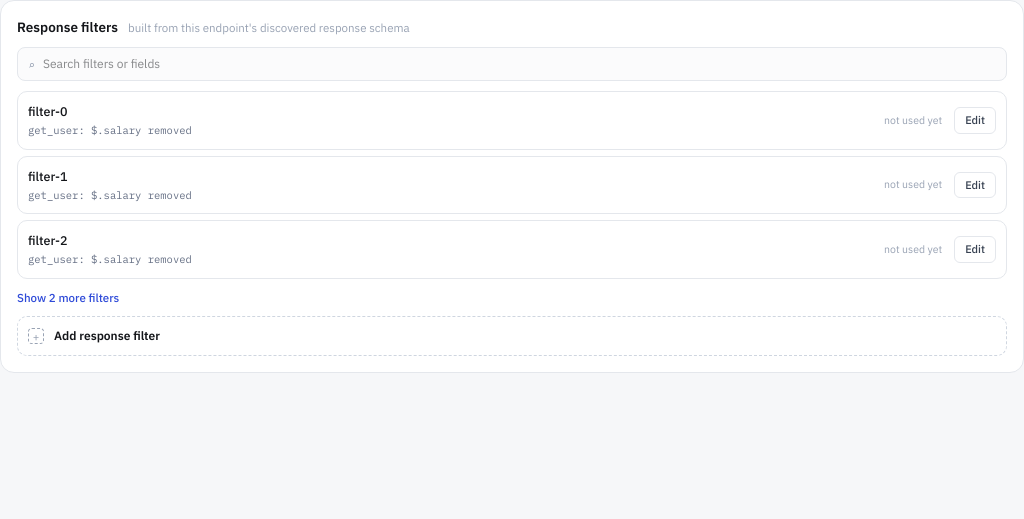
it: ResponseFilterGroup › collapses long filter lists behind 'Show N more filters'
Expected: the text "filter-0" is shown 3 times, [28,103,68,119]; [28,168,68,184]; [28,232,68,248]
Click the button "Show 2 more filters". click: (68, 297)
box: [17,289,119,306]
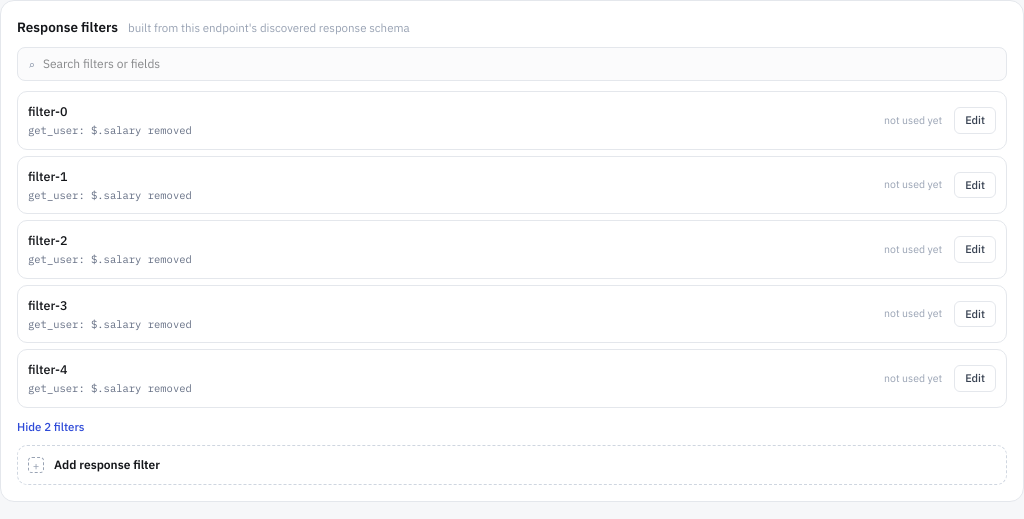
Expected: the text "filter-0" is shown 5 times, [28,103,68,119]; [28,168,68,184]; [28,232,68,248]; [28,297,68,313]; [28,361,68,377]
Expected: the button "Hide 2 filters" is shown, [17,418,85,435]
